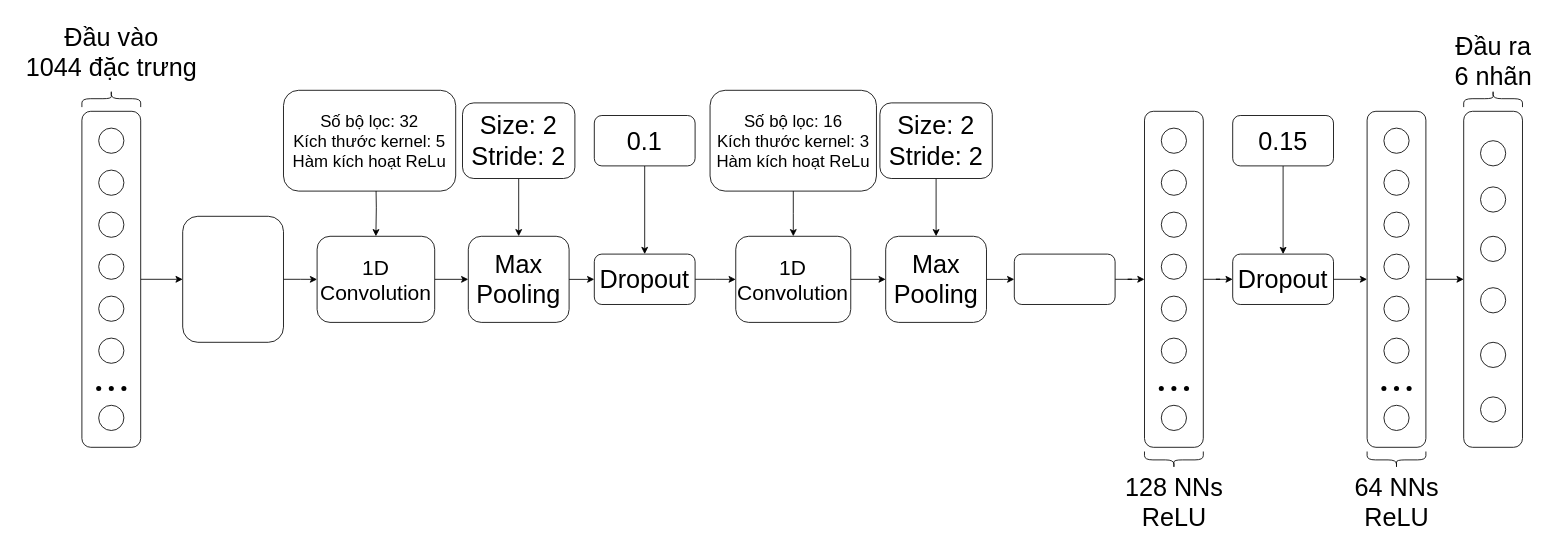
This 1557x554 diagram has some shape labels left out. The box of each missing label's shape, as (x1, y1, x2, y2) in pixels:
Chuyển vị (116 cột): (182, 215, 284, 342)
Flatten: (1013, 253, 1115, 304)
